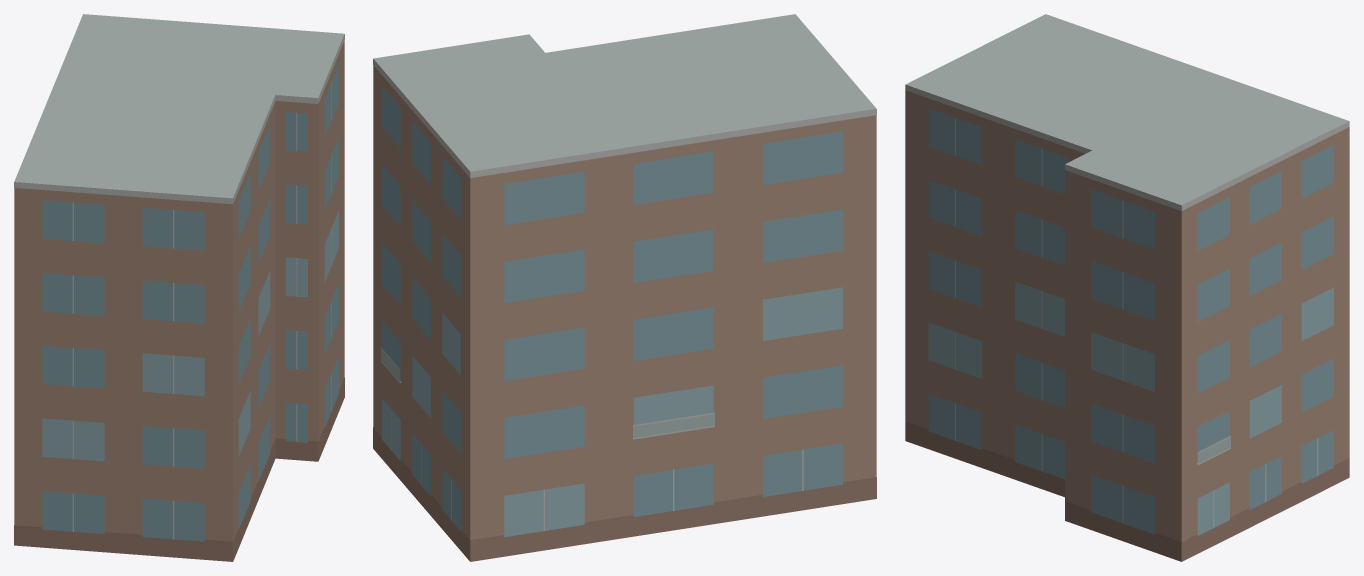
Rendered from survey-upis-32923242.glb.
3 renders of one model, left to right at view 1: azimuth 30°, elevation 25°; view 2: azimuth 150°, elevation 25°; view 3: azimuth 270°, elevation 25°, orthographic. The views are drawn at different scales.
Parts seen in each view (by area): view 1: survey-upis-32923242.tmp; view 2: survey-upis-32923242.tmp; view 3: survey-upis-32923242.tmp.
Part boxes in pixels (<box>): survey-upis-32923242.tmp: <box>14,14,344,561</box>; survey-upis-32923242.tmp: <box>373,14,876,561</box>; survey-upis-32923242.tmp: <box>905,14,1349,561</box>.
Bounding box in the file's own units: 17.51 × 15.2 × 17.17.
